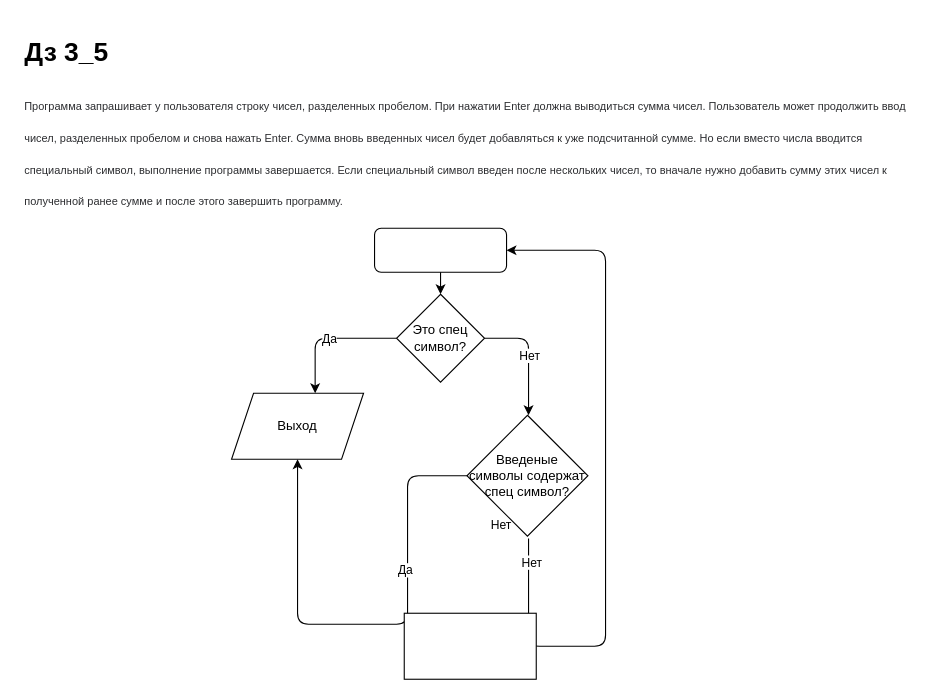
This 939x699 diagram has some shape labels left out. Each missing label, with the centre of its shape:
input Пользователь вводит числа: the point at 440,249
Просуммировать введение числа: the point at 469,645
